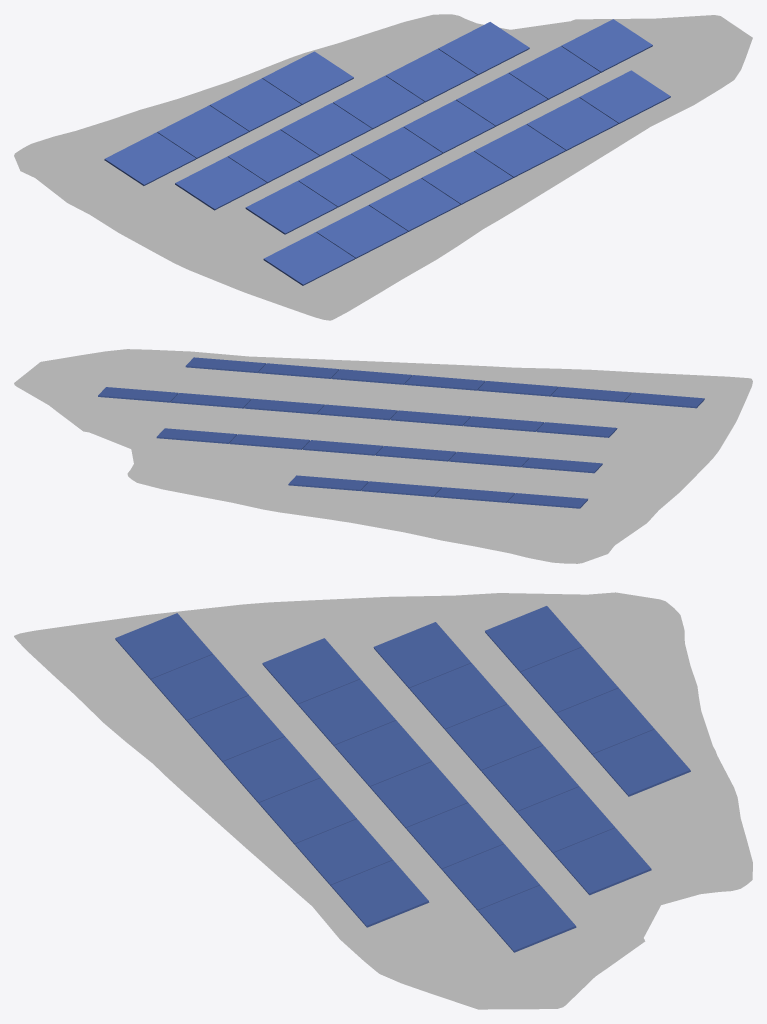
File: terrace_tilted.glb
The picture shows the model from 3 angles, top to bottom: view 1: azimuth 30°, elevation 25°; view 2: azimuth 150°, elevation 25°; view 3: azimuth 270°, elevation 25°; orthographic projection. The views are drawn at different scales.
Visible parts, largest first — view 1: RoofSolar; view 2: RoofSolar; view 3: RoofSolar.
Part boxes in pixels (box(x1,y1,x2,y2)): RoofSolar: box(14, 14, 752, 320); RoofSolar: box(14, 349, 752, 563); RoofSolar: box(14, 592, 752, 1009).
Bounding box in the file's own units: 16.69 × 0.5352 × 12.24.
